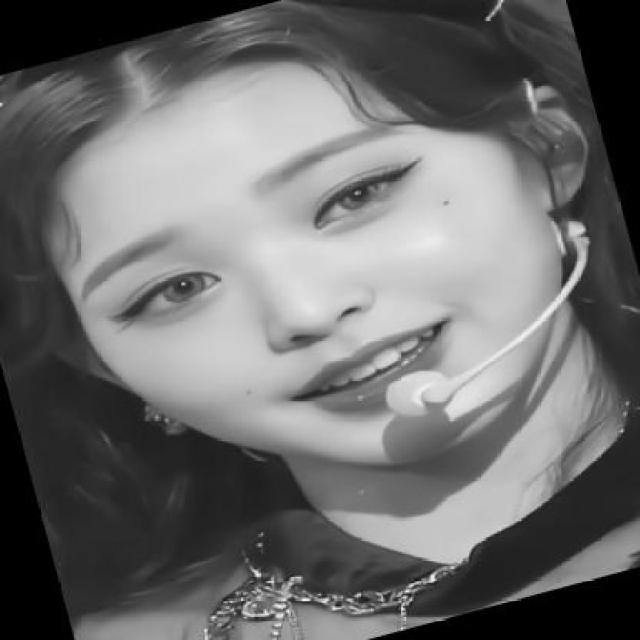earphone: (498, 60, 622, 410)
